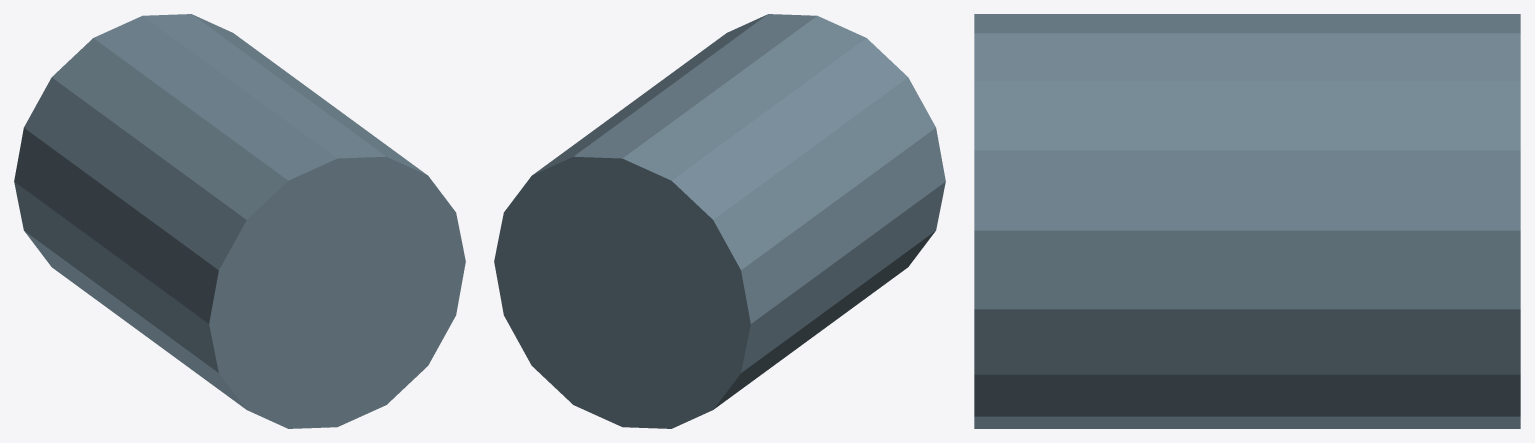
File: barrel.glb
3 renders of one model, left to right at view 1: azimuth 30°, elevation 25°; view 2: azimuth 150°, elevation 25°; view 3: azimuth 270°, elevation 25°, orthographic. The views are drawn at different scales.
Visible parts, largest first — view 1: barrel; view 2: barrel; view 3: barrel.
Part boxes in pixels (<box>): barrel: <box>14,14,465,428</box>; barrel: <box>494,14,945,428</box>; barrel: <box>974,14,1520,428</box>.
Bounding box in the file's own units: 0.76 × 0.76 × 1.
